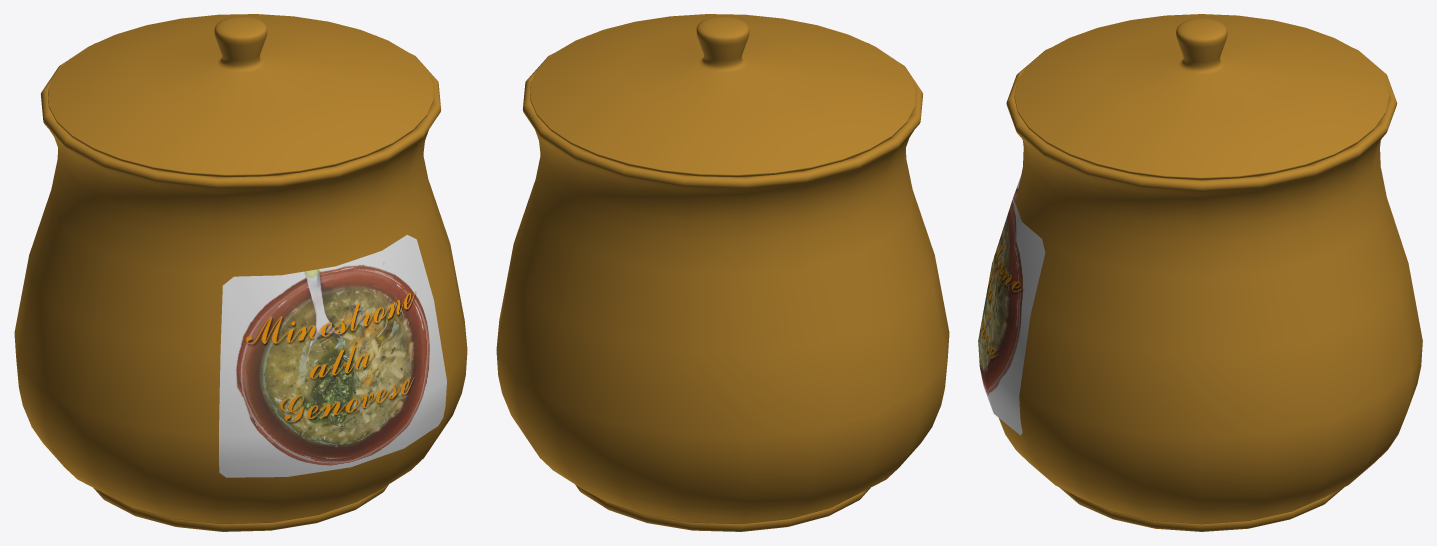
The model's file is pot.fbx.
3 views of the same model, side by side, from view 1: azimuth 30°, elevation 25°; view 2: azimuth 150°, elevation 25°; view 3: azimuth 270°, elevation 25° (orthographic).
Parts seen in each view (by area): view 1: pot_1, caop, etichetta; view 2: pot_1, caop; view 3: pot_1, caop, etichetta.
Part boxes in pixels (left/top/right/bottom): pot_1: left=14, top=43, right=467, bottom=531; caop: left=48, top=14, right=433, bottom=177; etichetta: left=219, top=235, right=446, bottom=477; pot_1: left=496, top=43, right=949, bottom=531; caop: left=530, top=14, right=915, bottom=177; pot_1: left=999, top=48, right=1422, bottom=531; caop: left=1014, top=14, right=1389, bottom=180; etichetta: left=978, top=176, right=1045, bottom=435.
Size of the model in its own units: 43.28 by 46.23 by 42.17.
